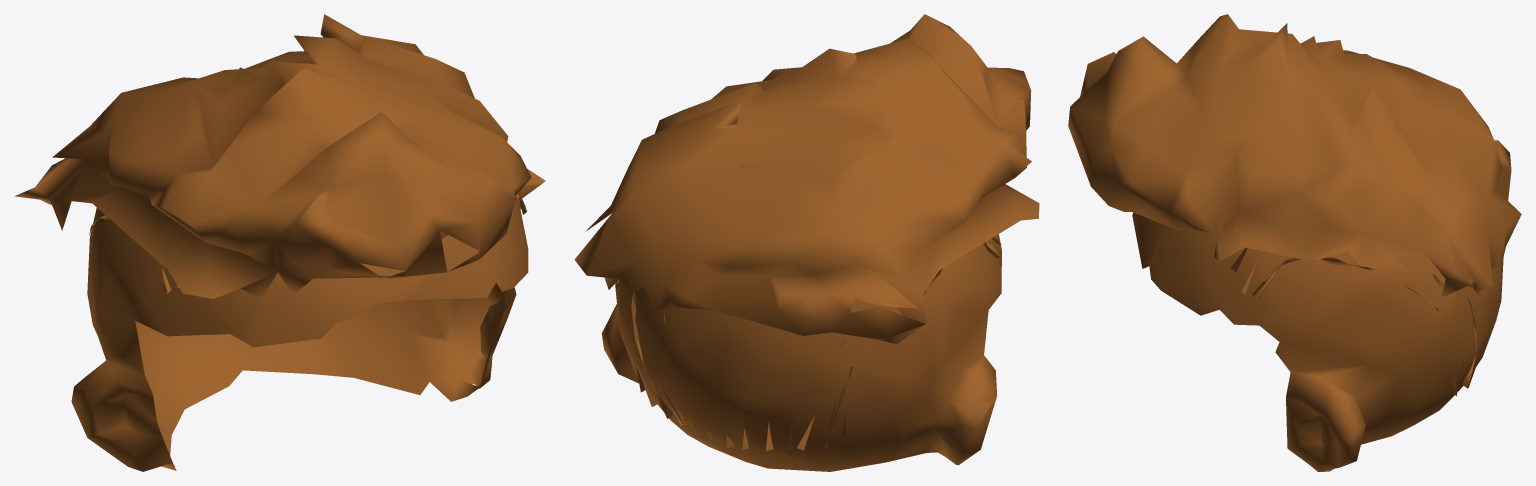
The model's file is quiff.glb.
The picture shows the model from 3 angles, left to right: view 1: azimuth 30°, elevation 25°; view 2: azimuth 150°, elevation 25°; view 3: azimuth 270°, elevation 25°; orthographic projection. The views are drawn at different scales.
Parts seen in each view (by area): view 1: Hair, HairScalp; view 2: Hair, HairScalp, HairPulledRootStrands; view 3: Hair, HairScalp, HairPulledRootStrands.
Boxes of the visible parts, x1,y1,x2,y2 form: Hair: (14,14,545,300); HairScalp: (71,68,528,471); Hair: (574,14,1039,344); HairScalp: (601,158,1001,471); HairPulledRootStrands: (615,237,1001,455); Hair: (1068,14,1521,297); HairScalp: (1132,107,1503,471); HairPulledRootStrands: (1214,228,1492,396).
Bounding box in the file's own units: 0.5102 × 0.4682 × 0.5275.
